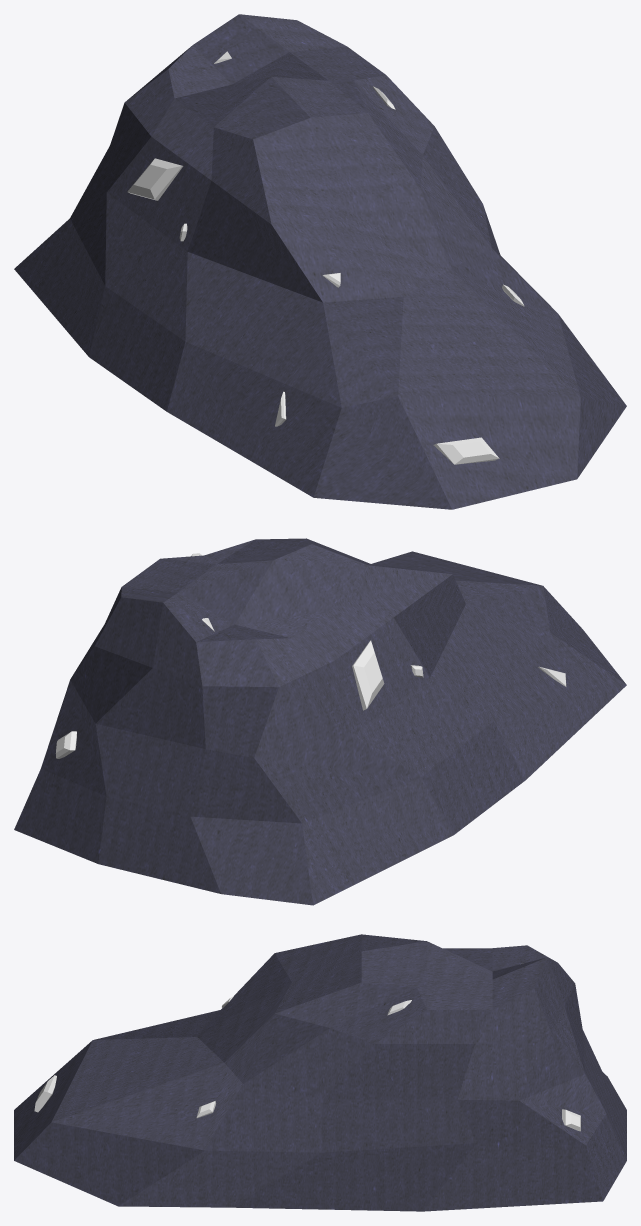
The model's file is stone.fbx.
The picture shows the model from 3 angles, top to bottom: view 1: azimuth 30°, elevation 25°; view 2: azimuth 150°, elevation 25°; view 3: azimuth 270°, elevation 25°; orthographic projection. The views are drawn at different scales.
Parts seen in each view (by area): view 1: stone, green gem.002, pink gem; view 2: stone, green gem.002; view 3: stone.
Boxes of the visible parts, <box> form: stone: <box>14,14,626,509</box>; green gem.002: <box>127,158,183,200</box>; pink gem: <box>433,437,499,464</box>; stone: <box>14,538,626,905</box>; green gem.002: <box>352,640,384,710</box>; stone: <box>14,934,626,1211</box>.
Bounding box in the file's own units: 195 × 120 × 340.
